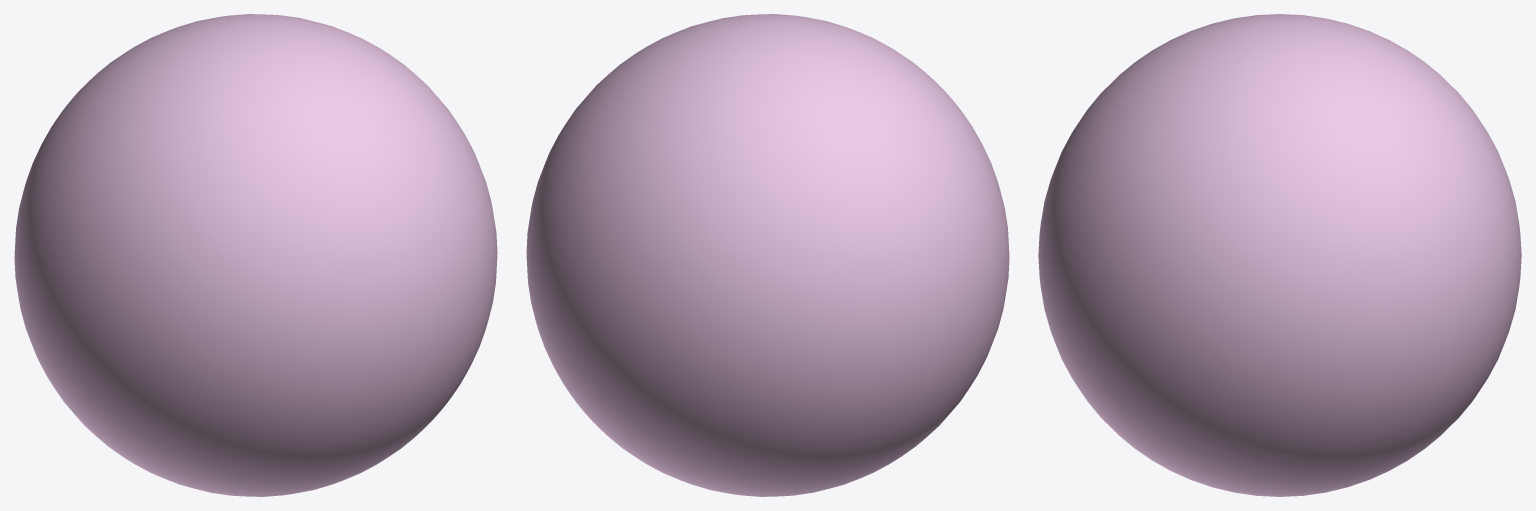
File: Poison Ball2.fbx
The picture shows the model from 3 angles, left to right: view 1: azimuth 30°, elevation 25°; view 2: azimuth 150°, elevation 25°; view 3: azimuth 270°, elevation 25°; orthographic projection.
Parts seen in each view (by area): view 1: Orchid; view 2: Orchid; view 3: Orchid.
Part boxes in pixels (x1=…): Orchid: x1=14, y1=14, x2=497, y2=496; Orchid: x1=526, y1=14, x2=1009, y2=496; Orchid: x1=1038, y1=14, x2=1521, y2=496.
Size of the model in its own units: 171 by 171 by 171.
